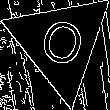O_S: (33, 12, 88, 75)
